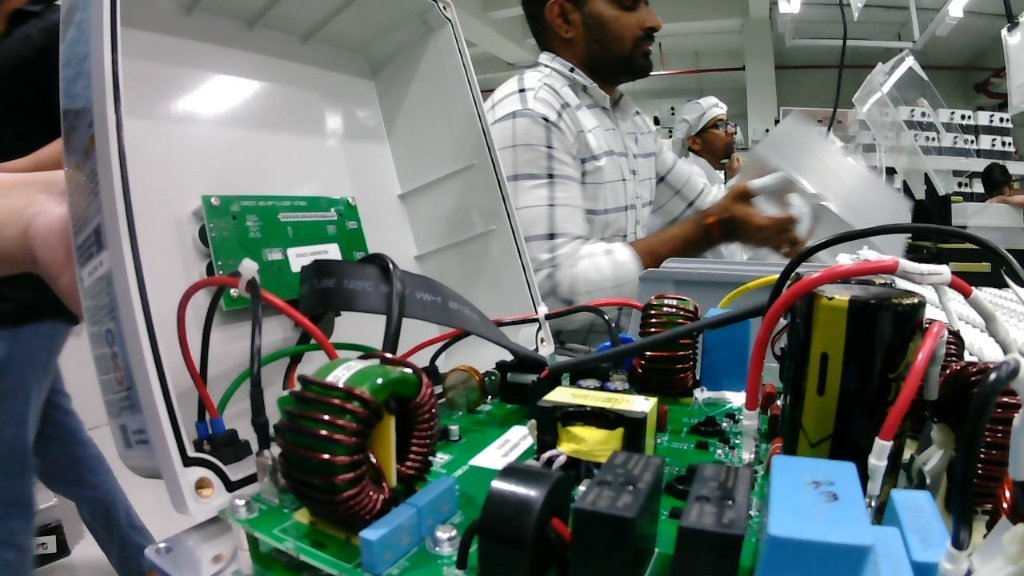wire_red: (160, 338, 261, 467)
